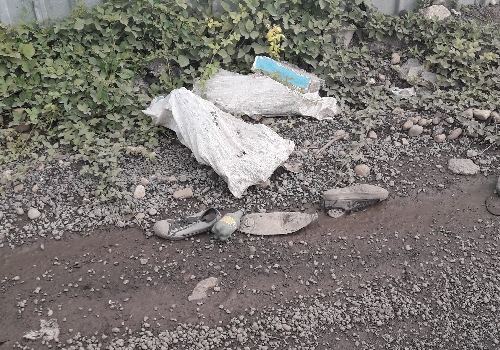trash: (125, 44, 391, 257)
